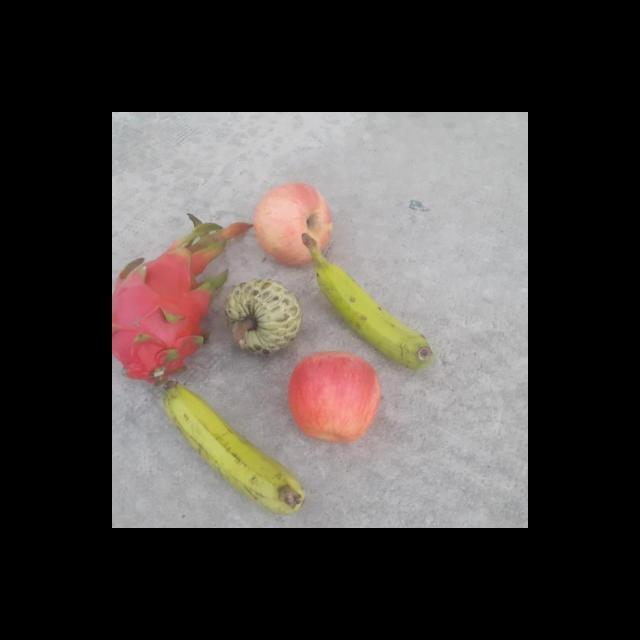Sakya fruit: (222, 276, 302, 356)
apple: (284, 349, 382, 443), (252, 180, 335, 266)
banana: (160, 378, 304, 518), (296, 233, 432, 371)
pitaya: (112, 236, 215, 382)
